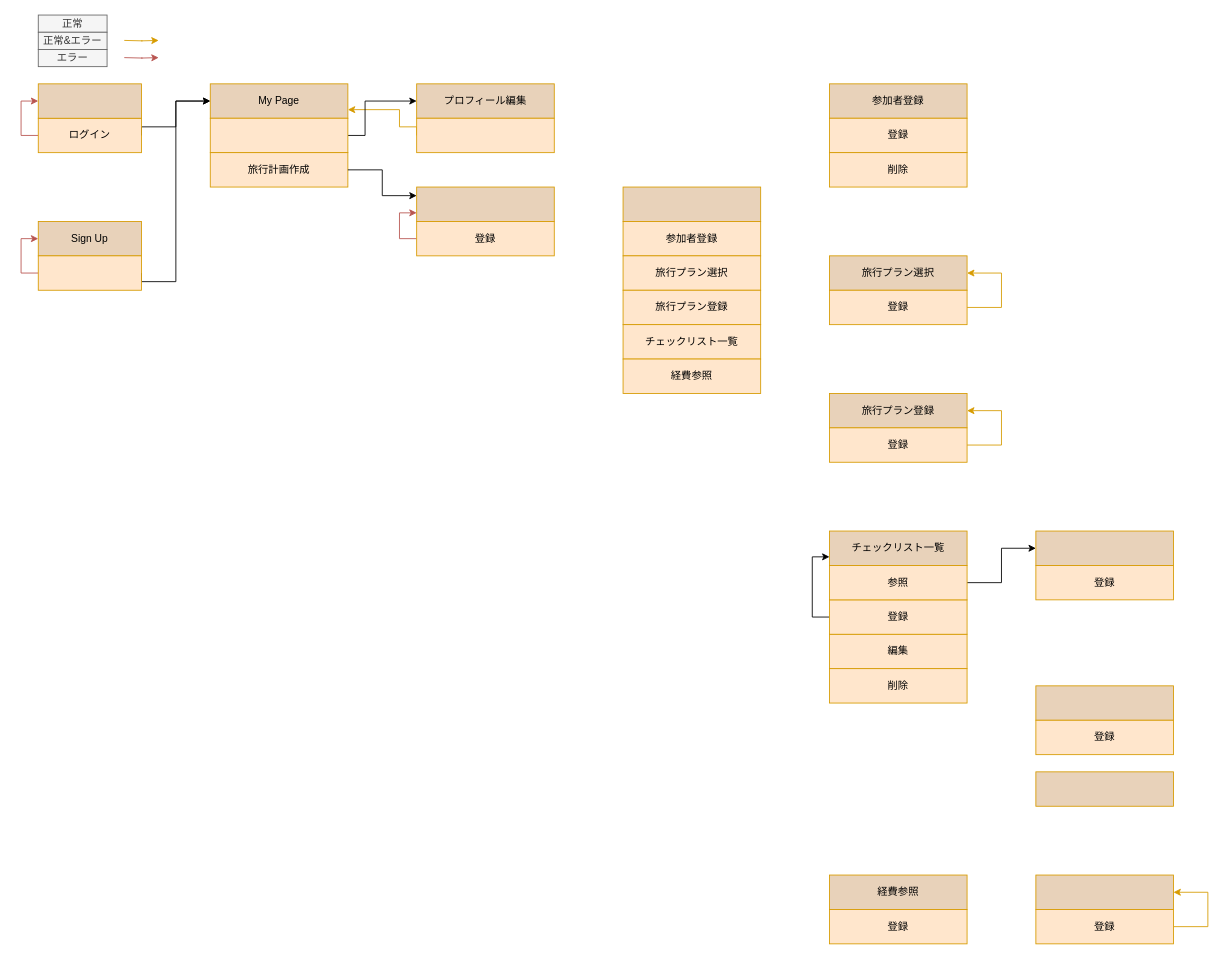
The diagram is 1230 pixels wide and 959 high, and some of its shapes have lost their labels. The centre of each missing label's shape, as x and y in pixels:
"Sign In" belongs at point 89,100.
"アカウント作成" belongs at point 89,272.
"アカウント編集" belongs at point 278,135.
"チェック" belongs at point 1104,547.
"チェック状態一覧" belongs at point 1104,788.
"チェック項目登録" belongs at point 1104,702.
"旅行計画参照" belongs at point 691,203.
"旅行計画新規登録" belongs at point 485,203.
"更新" belongs at point 485,135.
"経費登録" belongs at point 1104,891.
